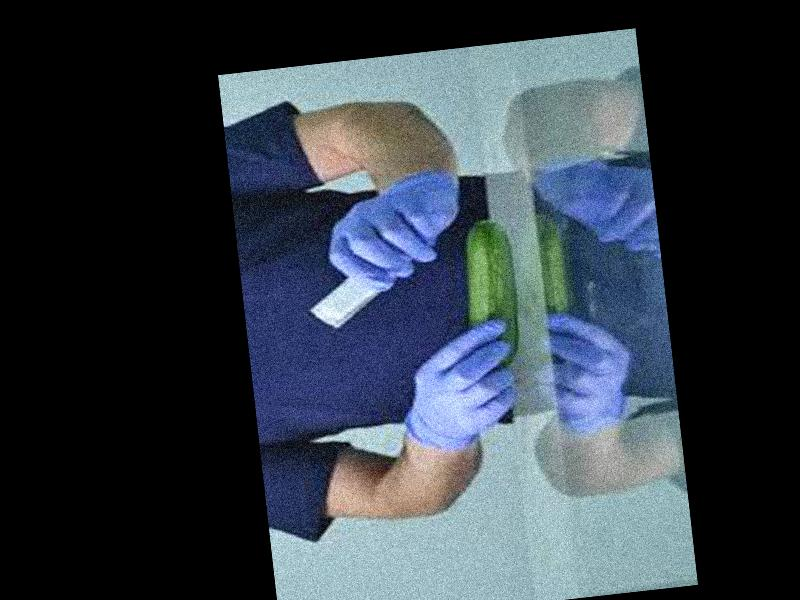Cucumber: (458, 216, 525, 369)
